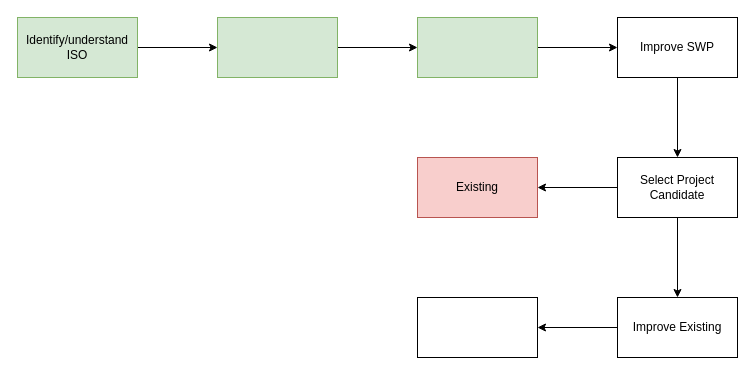
Image size: 755x375. Some labels were removed from this diagram. Each missing label, with the centre of its shape:
"Create SCM plan from existing practice" goes at [477,327].
"Discover gap with SWP" goes at [477,47].
"Map SCM" goes at [277,47].
